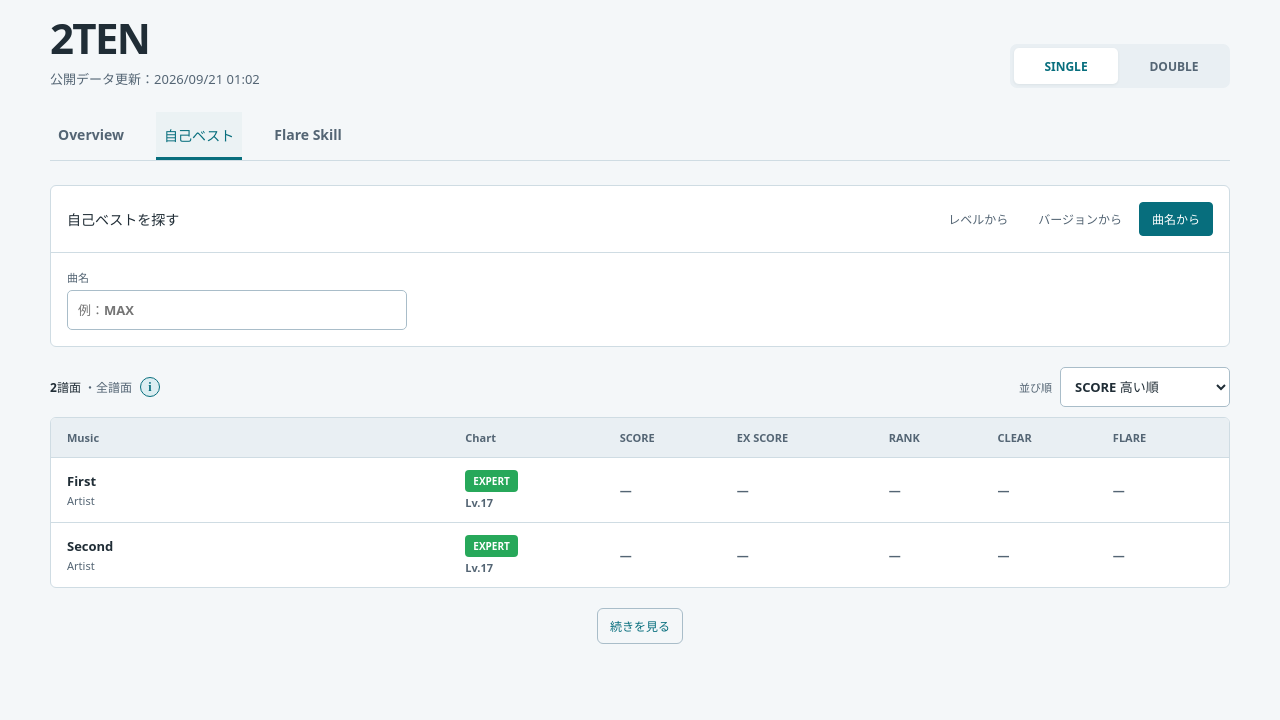
Test: PlayerApp › keeps loaded rows on additional-page failure and retries that cursor exactly once
(page scrolled)
Expected: the text "First" is shown, [67,472,96,490]
Click the button "続きを見る" at [640, 626], box [597,608,683,644]
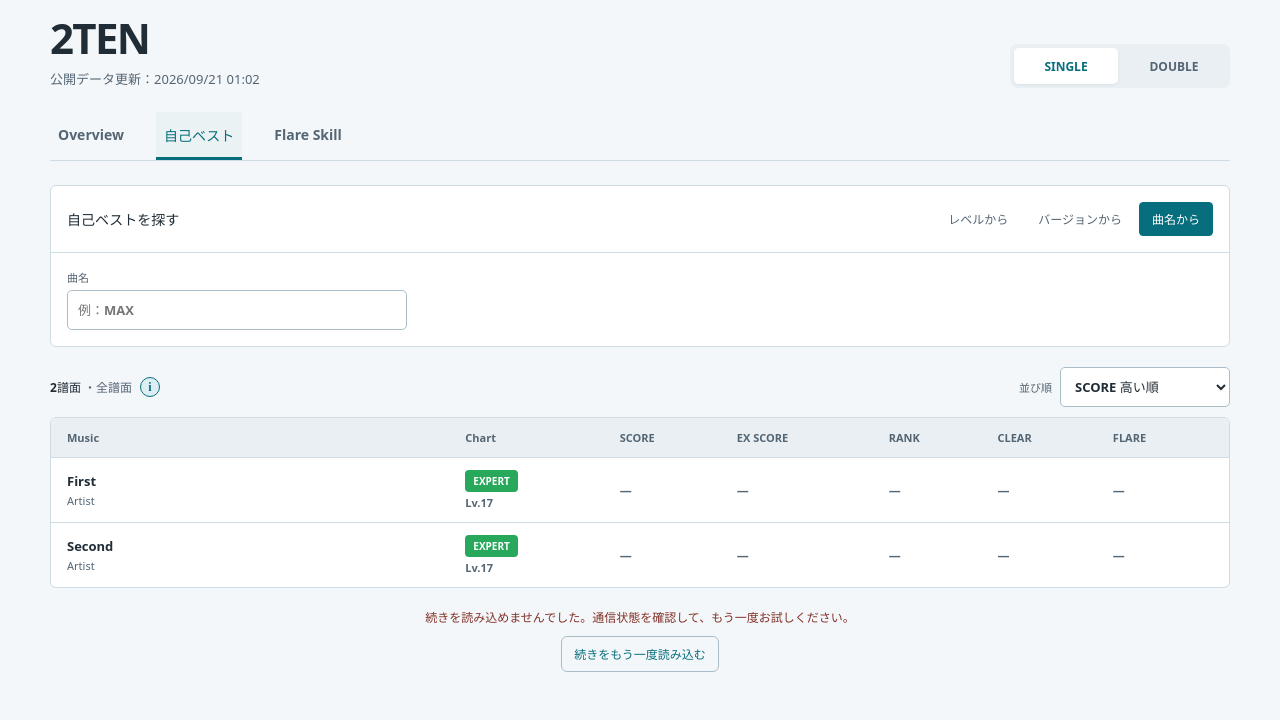
Expected: the text "2譜面" is shown, [50,379,81,396]
Result: the message shows "続きを読み込めませんでした" at [425,609,855,626]
Click the button "続きをもう一度読み込む" at [640, 654], box [561,636,719,672]
(page scrolled)
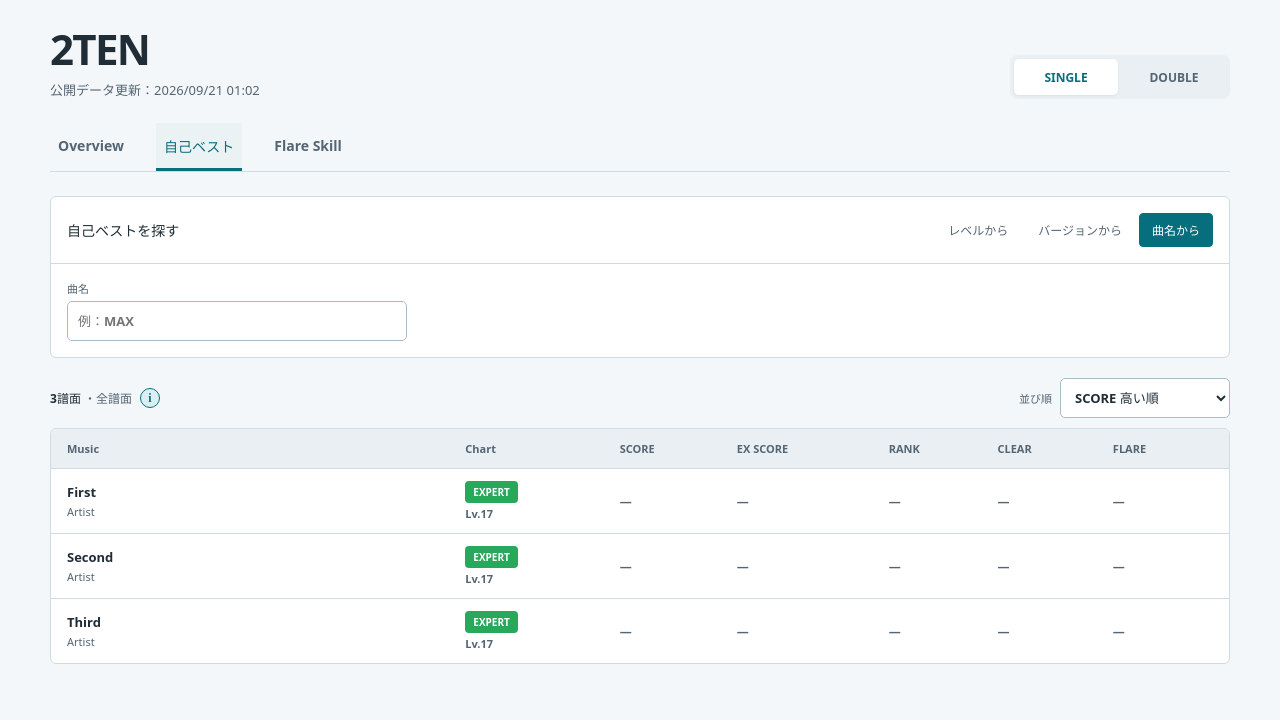
Result: the text "Third" is shown at [67,613,101,631]
Result: the text "3譜面" is shown at [50,390,81,407]
Result: the text "First" is shown once at [67,483,96,501]
